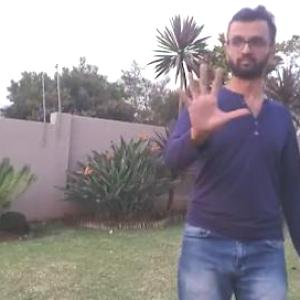follow_hand: (174, 58, 251, 138)
